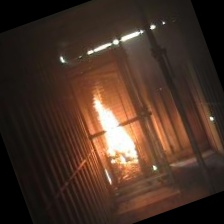fire: (73, 82, 146, 184)
